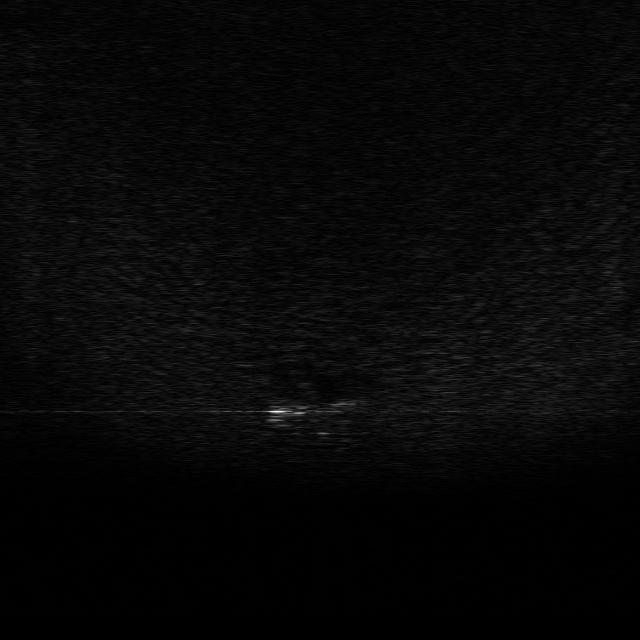plane: (256, 379, 360, 445)
